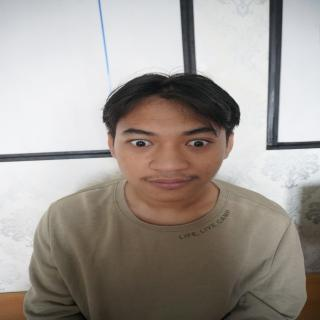Marah: (112, 94, 229, 203)
